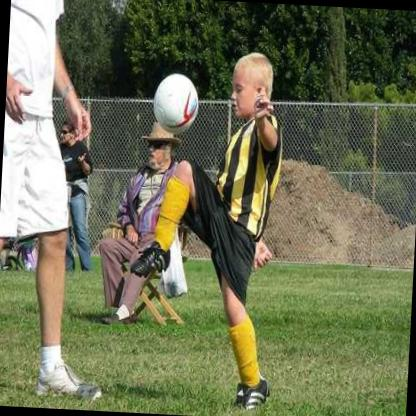ball: (153, 71, 200, 134)
